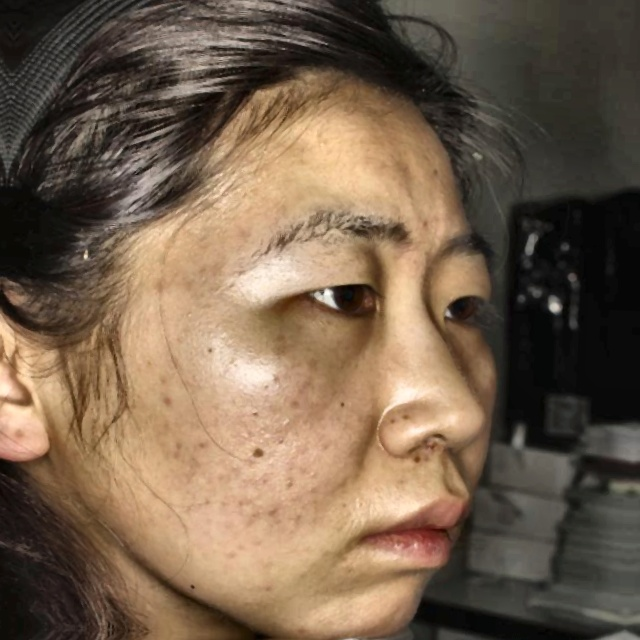comedone: (403, 439, 439, 468)
